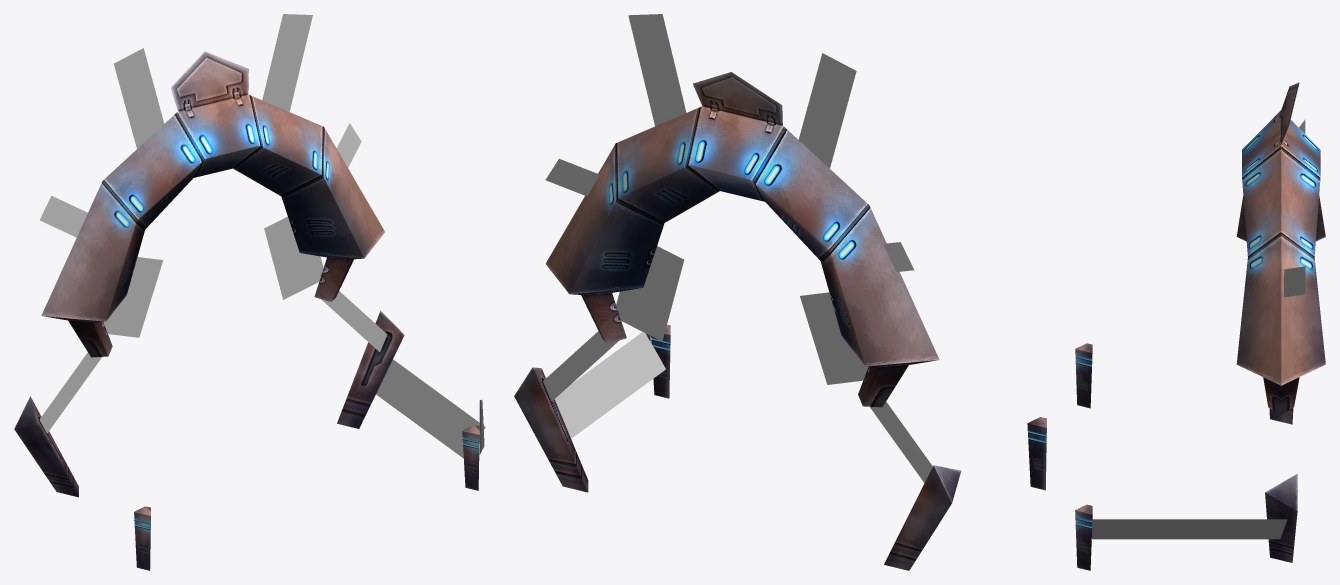
The model's file is track_la_env_goal_01.fbx.
3 views of the same model, side by side, from view 1: azimuth 30°, elevation 25°; view 2: azimuth 150°, elevation 25°; view 3: azimuth 270°, elevation 25° (orthographic). The views are drawn at different scales.
Parts seen in each view (by area): view 1: track_la_env_goal_01; view 2: track_la_env_goal_01; view 3: track_la_env_goal_01.
Boxes of the visible parts, <box> form: track_la_env_goal_01: <box>14,14,485,570</box>; track_la_env_goal_01: <box>514,14,1046,570</box>; track_la_env_goal_01: <box>1075,82,1325,570</box>.
Size of the model in its own units: 23.22 by 24.85 by 13.02.
